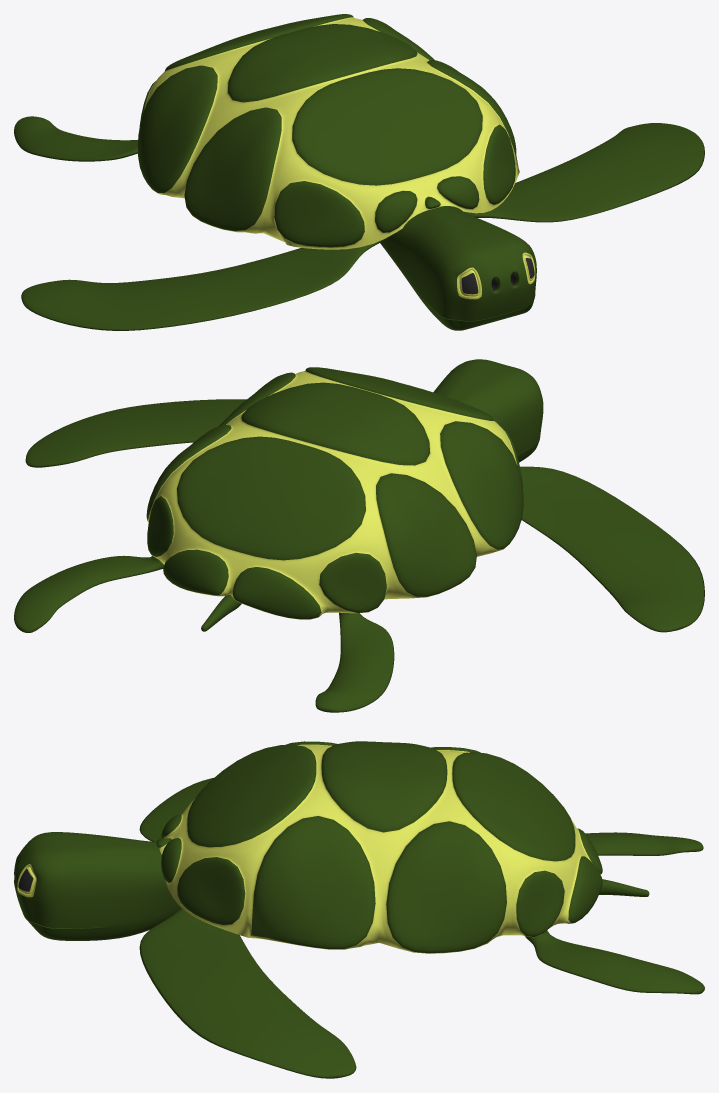
The model's file is turtle.fbx.
3 views of the same model, one above another, from view 1: azimuth 30°, elevation 25°; view 2: azimuth 150°, elevation 25°; view 3: azimuth 270°, elevation 25° (orthographic). The views are drawn at different scales.
Visible parts, largest first — view 1: Plane, Cube.002, Cube, Cube.001, Cube.004; view 2: Plane, Cube.002, Cube.001, Cube, Cube.004, Cube.003, Cube.005; view 3: Plane, Cube.001, Cube, Cube.003, Cube.004, Cube.002, Cube.005.
Boxes of the visible parts, x1,y1,x2,y2 form: Plane: (137, 14, 519, 249); Cube.002: (21, 238, 385, 330); Cube: (380, 206, 536, 330); Cube.001: (464, 123, 704, 222); Cube.004: (14, 116, 137, 161); Plane: (146, 367, 523, 619); Cube.002: (520, 466, 704, 632); Cube.001: (25, 399, 246, 467); Cube: (433, 359, 543, 462); Cube.004: (315, 612, 394, 712); Cube.003: (14, 555, 164, 632); Cube.005: (201, 595, 241, 631); Plane: (156, 741, 602, 953); Cube.001: (139, 907, 356, 1078); Cube: (14, 832, 180, 940); Cube.003: (525, 930, 704, 994); Cube.004: (585, 832, 703, 855); Cube.002: (139, 778, 213, 841); Cube.005: (599, 879, 649, 896).
Bounding box in the file's own units: 1194 × 279 × 1055.
